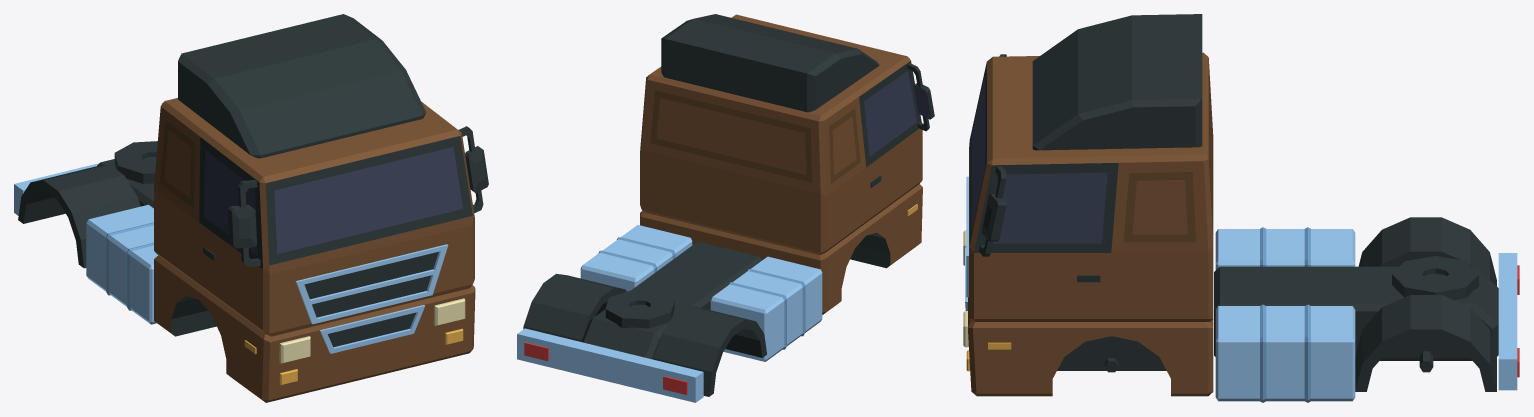
The model's file is Lorry.fbx.
3 views of the same model, side by side, from view 1: azimuth 30°, elevation 25°; view 2: azimuth 150°, elevation 25°; view 3: azimuth 270°, elevation 25° (orthographic). The views are drawn at different scales.
Parts seen in each view (by area): view 1: Lorry; view 2: Lorry; view 3: Lorry.
Boxes of the visible parts, x1,y1,x2,y2 form: Lorry: (14,14,488,402); Lorry: (517,14,934,402); Lorry: (963,14,1519,402).
Bounding box in the file's own units: 253 × 258 × 446.
